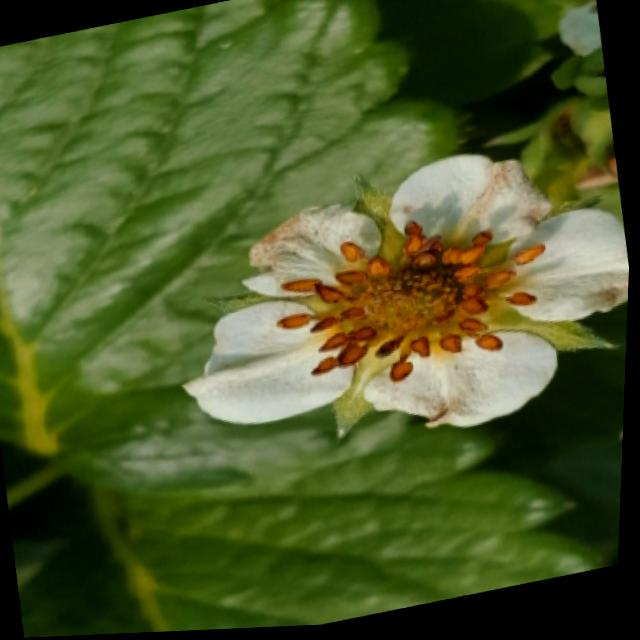Blossom Blight: (271, 220, 547, 394)
